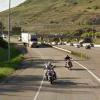Motorcycle: (40, 57, 61, 89)
